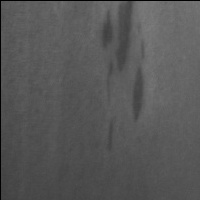inclusion: (98, 2, 140, 107), (126, 61, 148, 128), (103, 111, 120, 158)
